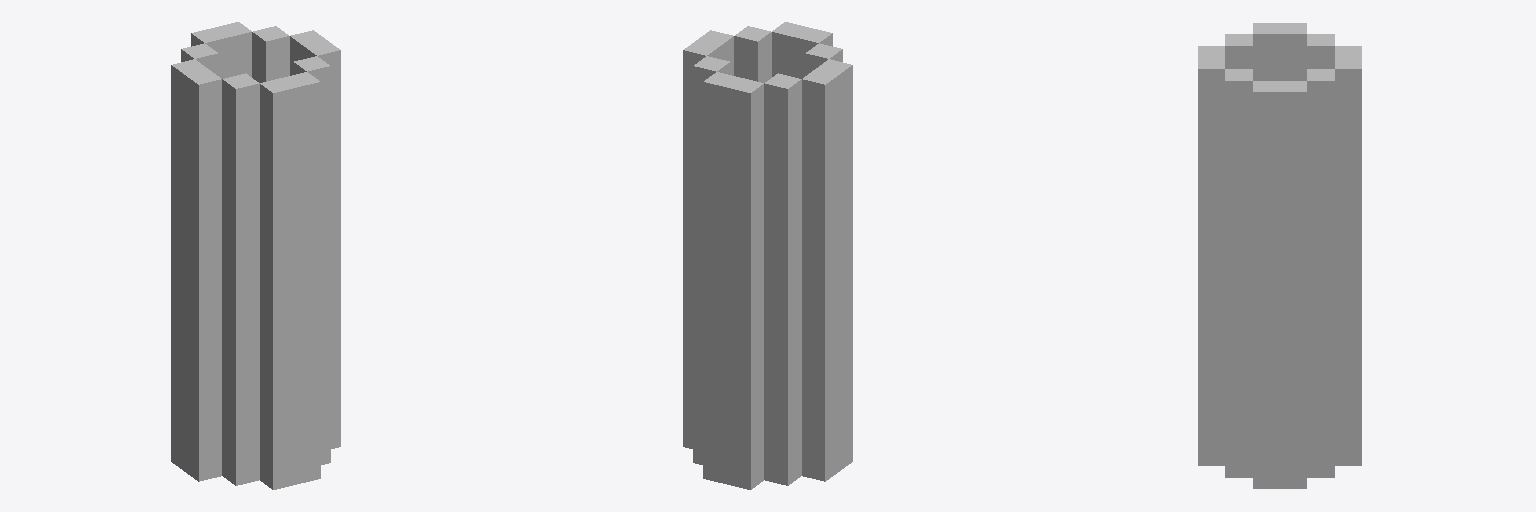
File: bamboo.obj
3 views of the same model, side by side, from view 1: azimuth 30°, elevation 25°; view 2: azimuth 150°, elevation 25°; view 3: azimuth 270°, elevation 25° (orthographic).
Visible parts, largest first — view 1: model; view 2: model; view 3: model.
Boxes of the visible parts, x1,y1,x2,y2 form: model: [171, 22, 340, 489]; model: [683, 22, 852, 489]; model: [1198, 23, 1361, 488].
Bounding box in the file's own units: 0.375 × 1 × 0.375.